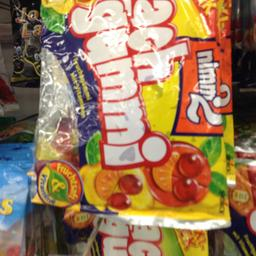candy: (40, 0, 232, 226)
